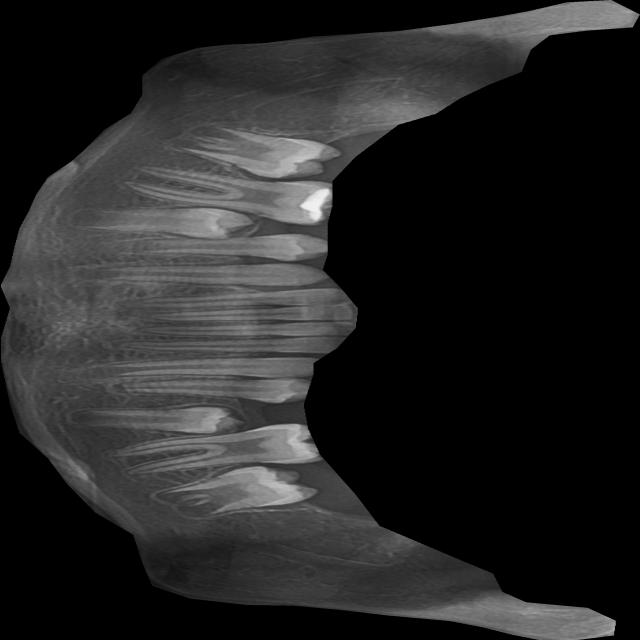mandibula: (0, 0, 639, 640)
